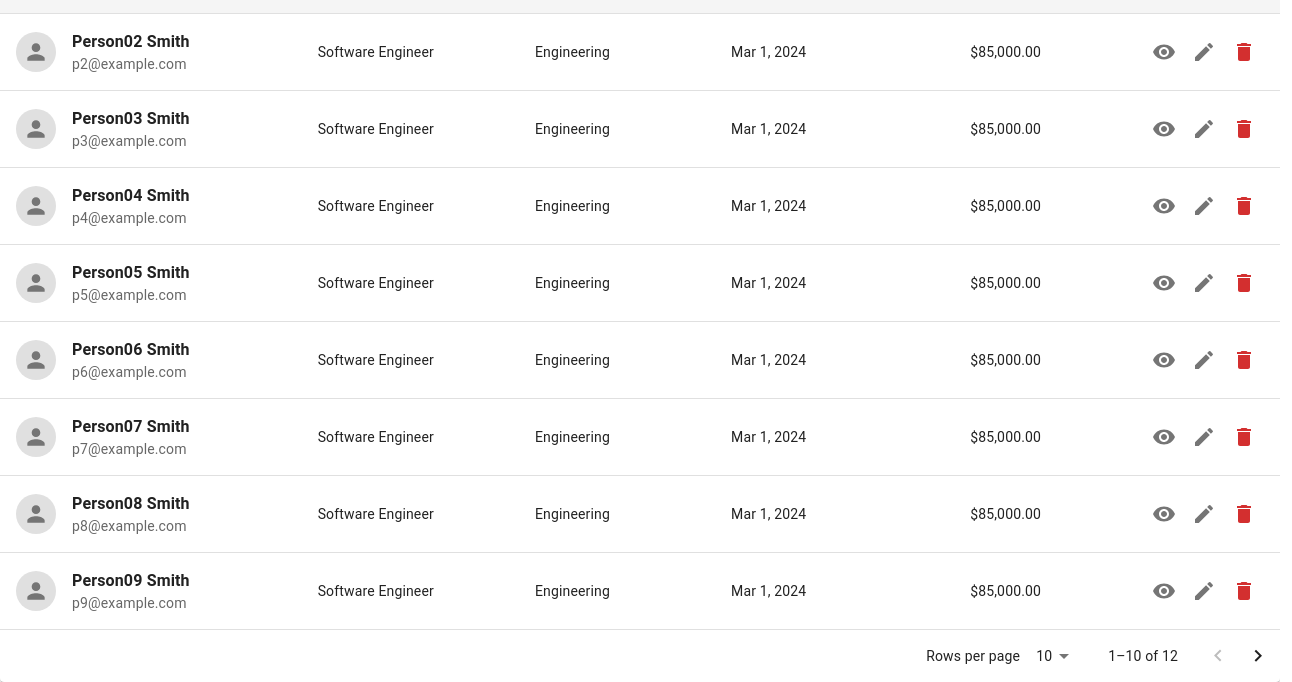
Test case: EmployeeTable: pagination › shows 10 rows per page and can go to the next page
(page scrolled)
expect the text "1–10 of 12" is shown: met, box left=1108, top=646, right=1178, bottom=666
Click the button named "next page".
click(1258, 656)  # box left=1238, top=636, right=1278, bottom=676
(page scrolled)
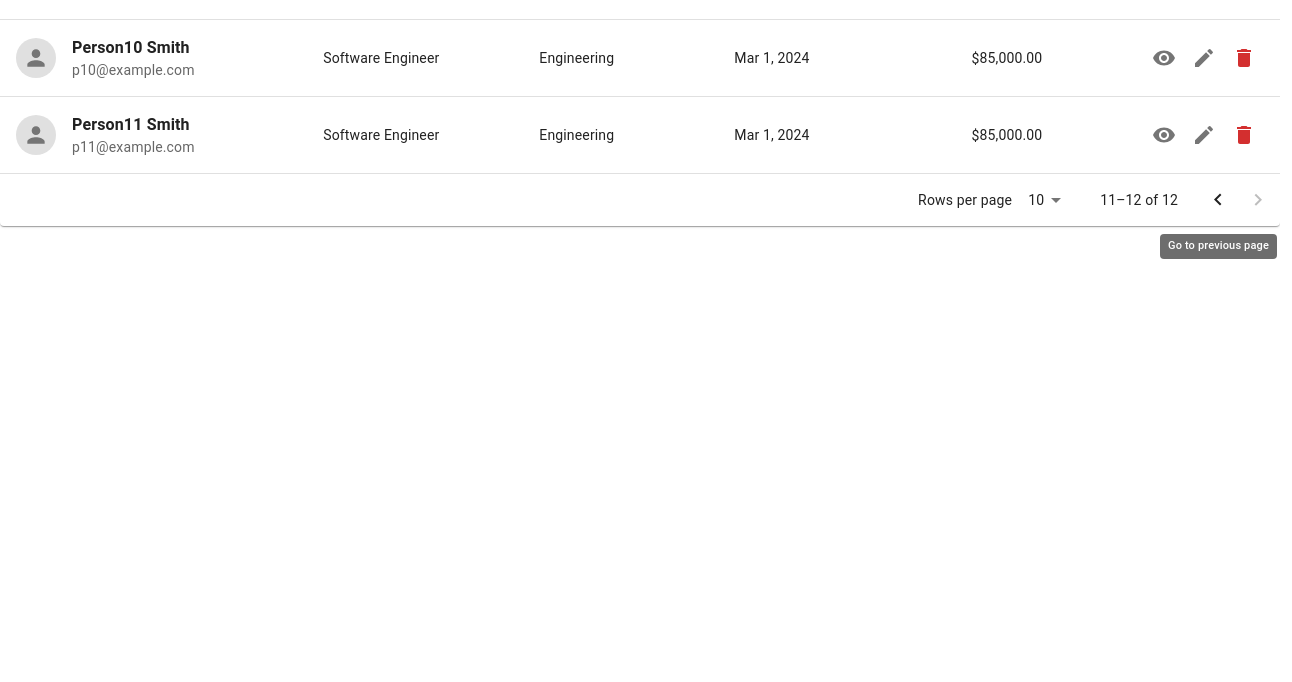
expect the text "11–12 of 12" is shown: met, box left=1100, top=190, right=1178, bottom=210
